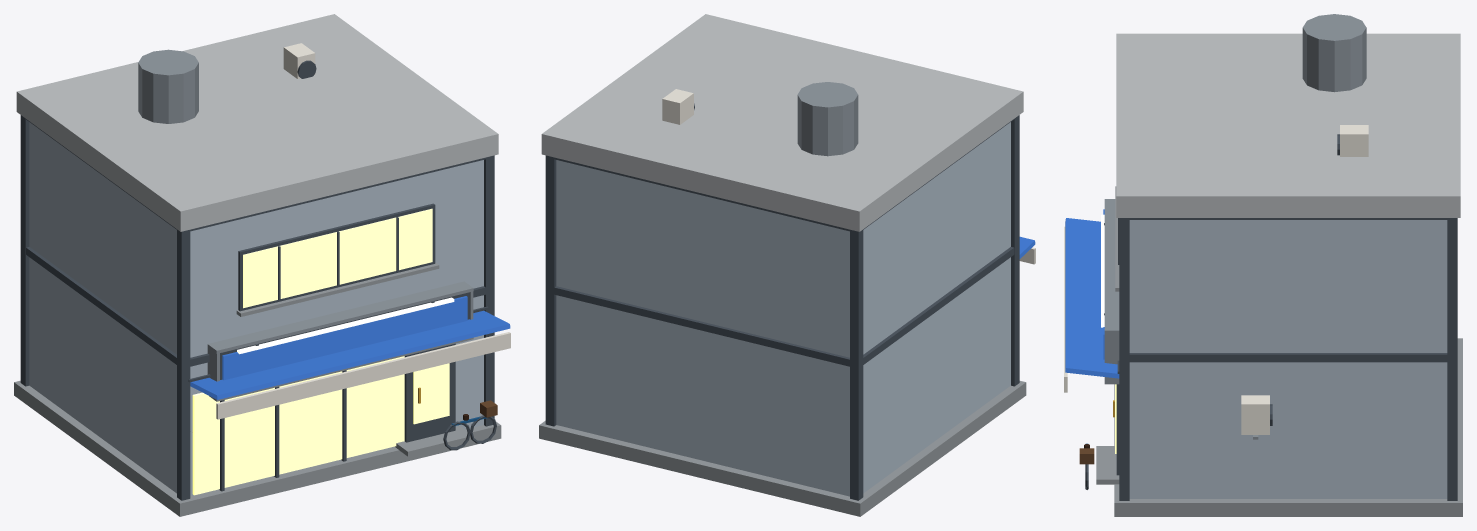
Rendered from shop_bookstore_2f.glb.
3 renders of one model, left to right at view 1: azimuth 30°, elevation 25°; view 2: azimuth 150°, elevation 25°; view 3: azimuth 270°, elevation 25°, orthographic. The views are drawn at different scales.
Parts seen in each view (by area): view 1: body.017, parapet.009, shop_glass.017, win_glass.037, base.017, awning.004, sign_face.017, awning_lip.004, water_tank.009, post.068, sign_rim_top.016, post.069 (+12 smaller); view 2: body.017, parapet.009, base.017, beam.052, water_tank.009, post.069, post.071, post.068, ac_body.028, beam.053; view 3: body.017, parapet.009, base.017, awning.004, water_tank.009, beam.052, post.070, post.071, sign_rim_top.016, ac_body.025, ac_body.028, threshold.017 (+2 smaller).
Boxes of the visible parts, box(x1,y1,x2,y2) form: body.017: box(29, 122, 483, 496); parapet.009: box(16, 14, 498, 231); shop_glass.017: box(192, 356, 404, 495); win_glass.037: box(243, 208, 432, 308); base.017: box(14, 380, 501, 516); awning.004: box(190, 310, 510, 399); sign_face.017: box(222, 296, 467, 380); awning_lip.004: box(216, 332, 510, 419); water_tank.009: box(138, 49, 198, 123); post.068: box(177, 229, 190, 500); sign_rim_top.016: box(207, 281, 473, 353); post.069: box(20, 115, 29, 386); body.017: box(556, 122, 1010, 496); parapet.009: box(541, 14, 1023, 231); base.017: box(539, 381, 1026, 516); beam.052: box(554, 247, 1014, 366); water_tank.009: box(797, 82, 858, 156); post.069: box(850, 229, 863, 500); post.071: box(545, 155, 556, 426); post.068: box(1011, 115, 1019, 386); ac_body.028: box(662, 89, 693, 124); beam.053: box(554, 119, 1014, 231); body.017: box(1129, 220, 1447, 498); parapet.009: box(1116, 33, 1460, 217); base.017: box(1114, 338, 1462, 516); awning.004: box(1065, 218, 1119, 378); water_tank.009: box(1302, 14, 1366, 92); beam.052: box(1129, 353, 1447, 362); post.070: box(1119, 218, 1129, 500); post.071: box(1447, 218, 1457, 500); sign_rim_top.016: box(1104, 199, 1119, 333); ac_body.025: box(1241, 395, 1269, 434); ac_body.028: box(1340, 125, 1368, 156); threshold.017: box(1096, 446, 1119, 484).
Size of the model in its own units: 7.84 by 8 by 7.75.
